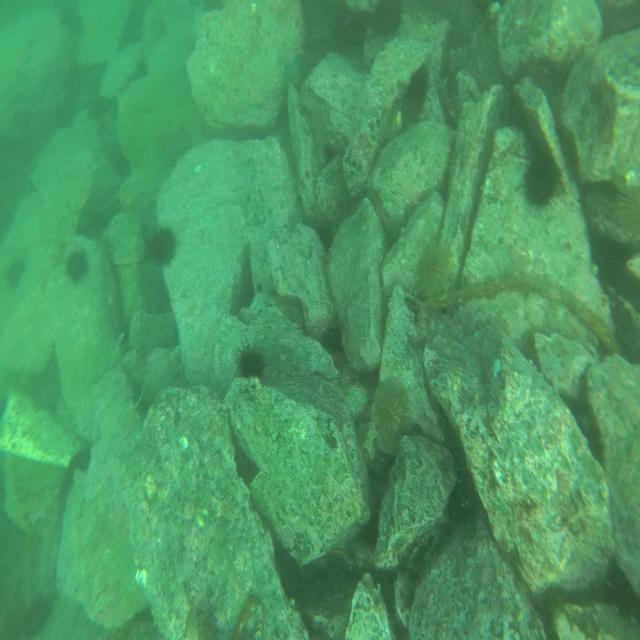echinus: (374, 382, 407, 445), (417, 243, 449, 298), (523, 159, 556, 210), (236, 344, 266, 383), (148, 227, 178, 266), (408, 68, 428, 110), (67, 249, 91, 284), (8, 261, 25, 290)
